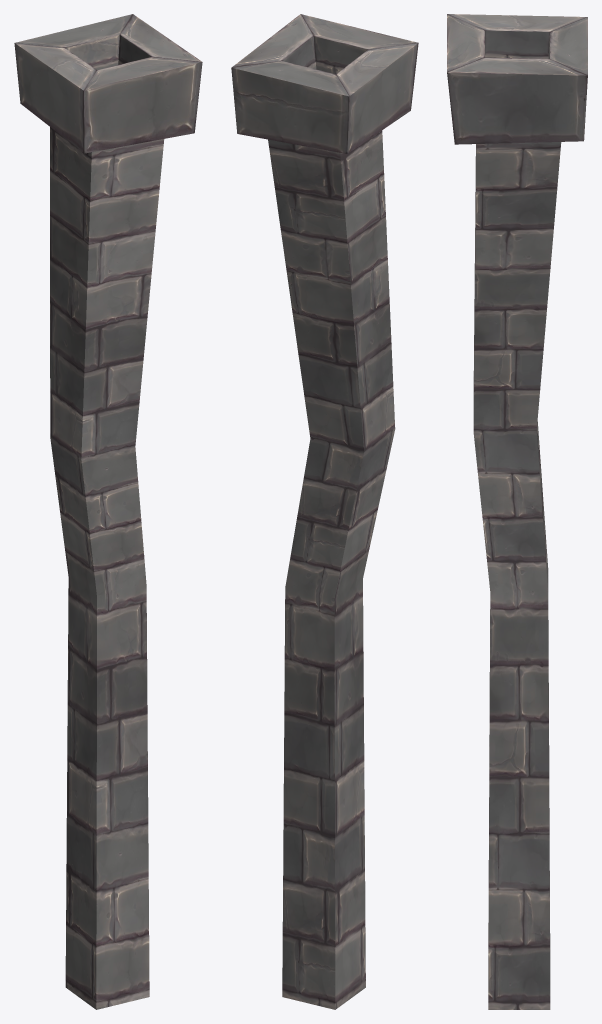
Rendered from SM_BLD_chimney_v02_01.glb.
3 renders of one model, left to right at view 1: azimuth 30°, elevation 25°; view 2: azimuth 150°, elevation 25°; view 3: azimuth 270°, elevation 25°, orthographic.
Visible parts, largest first — view 1: SM_BLD_chimney_v02_01_EXPORT; view 2: SM_BLD_chimney_v02_01_EXPORT; view 3: SM_BLD_chimney_v02_01_EXPORT.
Part boxes in pixels (x1,y1,x2,y2): SM_BLD_chimney_v02_01_EXPORT: (14,14,202,1009); SM_BLD_chimney_v02_01_EXPORT: (231,14,418,1009); SM_BLD_chimney_v02_01_EXPORT: (447,14,587,1009).
Size of the model in its own units: 1.36 by 10.31 by 1.38.
Materials: 1 (1 with a texture image).
